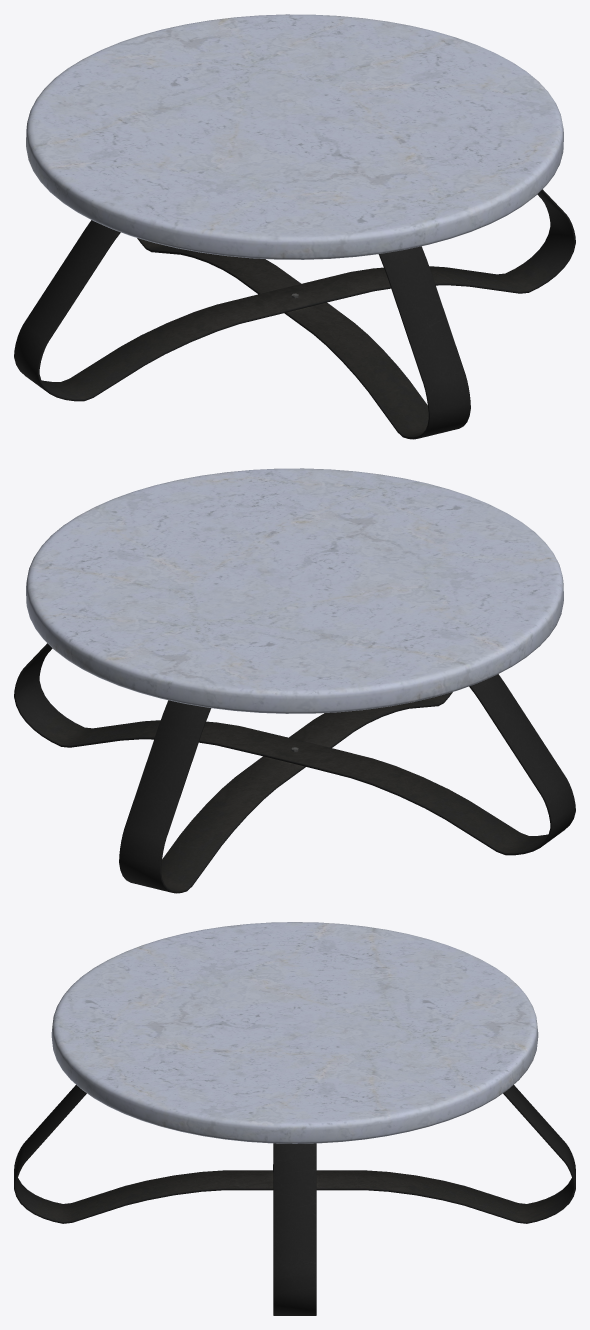
File: coffee_table.glb
3 renders of one model, top to bottom at view 1: azimuth 30°, elevation 25°; view 2: azimuth 150°, elevation 25°; view 3: azimuth 270°, elevation 25°, orthographic. The views are drawn at different scales.
Visible parts, largest first — view 1: coffee_table_round_01; view 2: coffee_table_round_01; view 3: coffee_table_round_01.
Boxes of the visible parts, left/top/right/bottom form: coffee_table_round_01: left=14, top=14, right=575, bottom=439; coffee_table_round_01: left=14, top=468, right=575, bottom=893; coffee_table_round_01: left=14, top=922, right=575, bottom=1315.
Bounding box in the file's own units: 1.3 × 0.491 × 1.3.
Materials: 1 (1 with a texture image).
